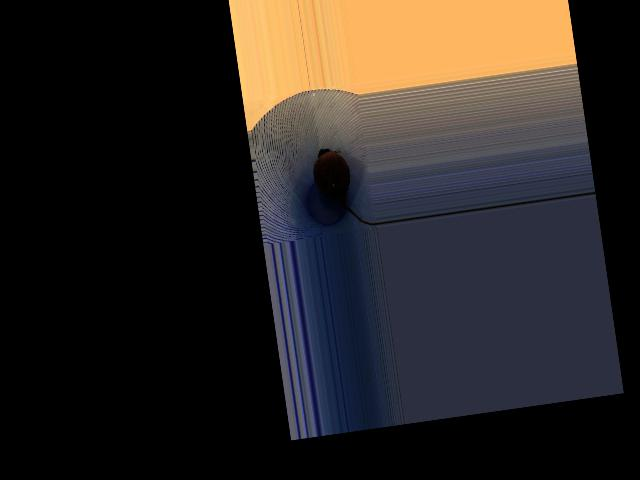beet: (310, 142, 377, 232)
